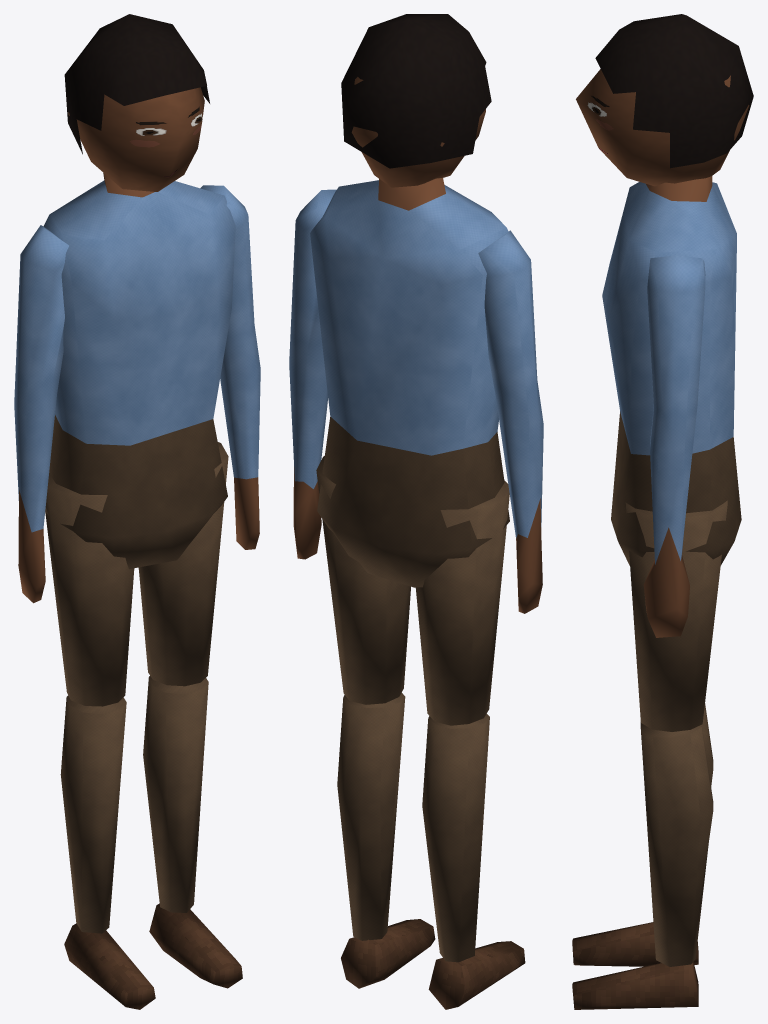
Rendered from persona_nino_b_lod.obj.
3 views of the same model, side by side, from view 1: azimuth 30°, elevation 25°; view 2: azimuth 150°, elevation 25°; view 3: azimuth 270°, elevation 25° (orthographic). The views are drawn at different scales.
Parts seen in each view (by area): view 1: Torso, PiernaIzq, PiernaDer, BrazoDer, MusloDer, Pelo, MusloIzq, BrazoIzq, Cabeza; view 2: Torso, Pelo, PiernaDer, PiernaIzq, BrazoDer, MusloDer, MusloIzq, BrazoIzq, Cabeza; view 3: Torso, PiernaIzq, BrazoIzq, Pelo, MusloIzq, Cabeza, PiernaDer.
Part boxes in pixels (box(x1,y1,x2,y2)): Torso: box(43, 173, 235, 569); PiernaIzq: box(143, 676, 242, 988); PiernaDer: box(60, 695, 155, 1009); BrazoDer: box(14, 225, 68, 603); MusloDer: box(45, 473, 134, 706); Pelo: box(64, 14, 209, 154); MusloIzq: box(138, 442, 228, 686); BrazoIzq: box(200, 185, 260, 549); Cabeza: box(68, 87, 204, 191); Torso: box(310, 178, 509, 587); Pelo: box(341, 14, 491, 168); PiernaDer: box(422, 714, 525, 1009); PiernaIzq: box(337, 693, 435, 988); BrazoDer: box(478, 230, 543, 613); MusloDer: box(415, 480, 509, 725); MusloIzq: box(316, 456, 410, 704); BrazoIzq: box(289, 189, 336, 559); Cabeza: box(351, 77, 485, 187); Torso: box(602, 176, 741, 565); PiernaIzq: box(572, 722, 713, 1009); BrazoIzq: box(643, 255, 705, 637); Pelo: box(595, 14, 753, 168); MusloIzq: box(625, 500, 727, 731); Cabeza: box(576, 69, 749, 186); PiernaDer: box(572, 703, 713, 966).
Bounding box in the file's own units: 0.3177 × 1.2 × 0.2037.
6 materials, 6 textured.
